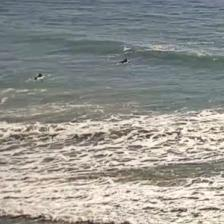surfer: (34, 73, 44, 80), (120, 58, 128, 65)
